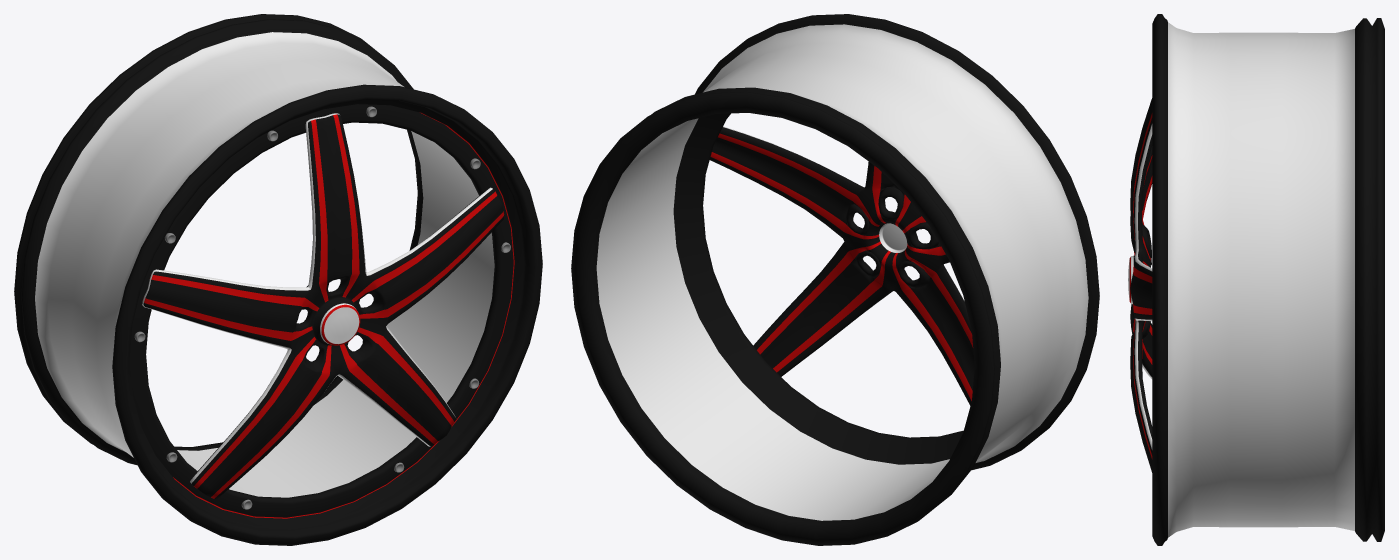
The model's file is 5X5Rim.fbx.
The picture shows the model from 3 angles, left to right: view 1: azimuth 30°, elevation 25°; view 2: azimuth 150°, elevation 25°; view 3: azimuth 270°, elevation 25°; orthographic projection. The views are drawn at different scales.
Visible parts, largest first — view 1: Rim_LOD0; view 2: Rim_LOD0; view 3: Rim_LOD0.
Boxes of the visible parts, <box> form: Rim_LOD0: <box>14,14,542,545</box>; Rim_LOD0: <box>571,14,1099,545</box>; Rim_LOD0: <box>1128,14,1384,545</box>.
Size of what is drawn, in the model's own units: 205 by 205 by 98.36.
